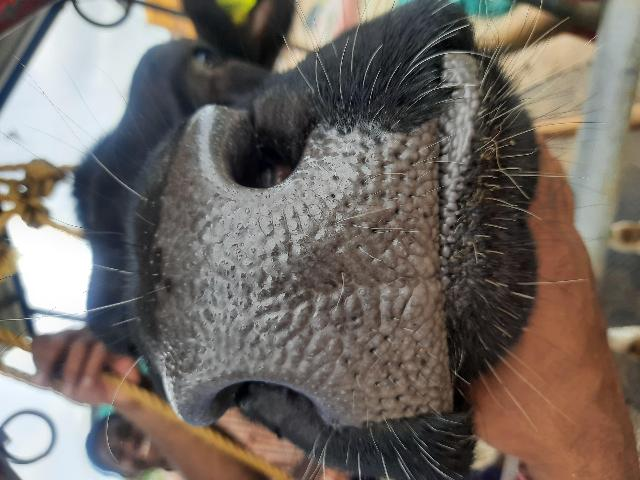Muzzle: (165, 186, 439, 374)
